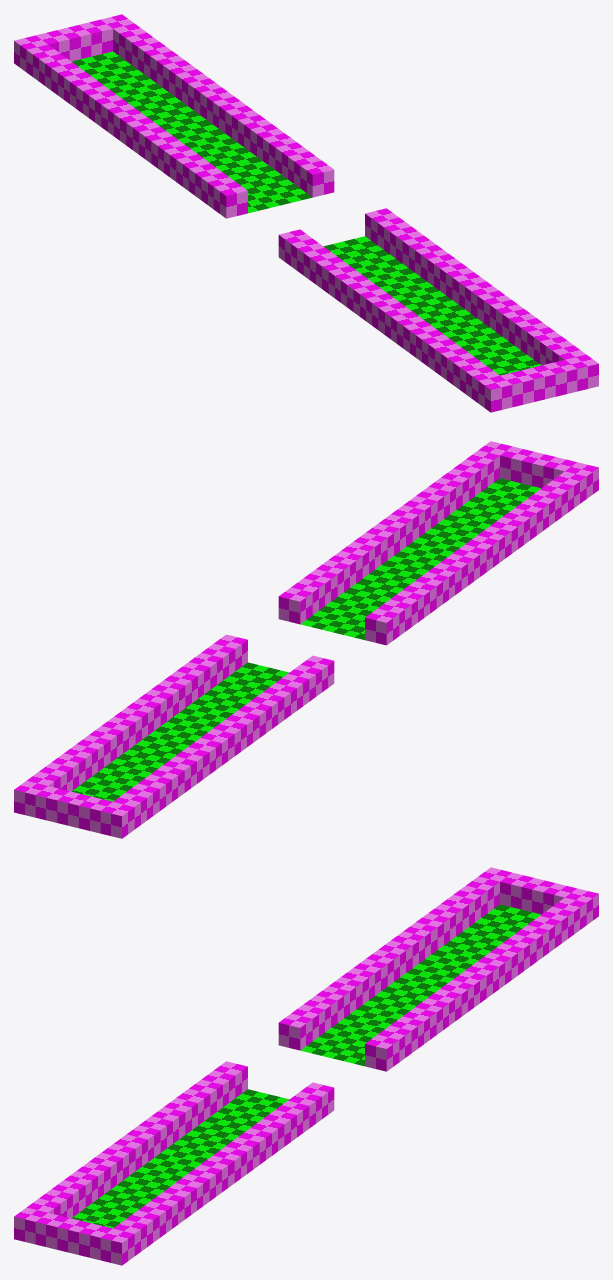
File: Level2.fbx
The picture shows the model from 3 angles, top to bottom: view 1: azimuth 30°, elevation 25°; view 2: azimuth 150°, elevation 25°; view 3: azimuth 330°, elevation 25°; orthographic projection.
Parts seen in each view (by area): view 1: Plane.001, Plane, Cube.058, Cube.070, Cube.001, Cube.004, Cube.072, Cube.071, Cube.002, Cube.006, Cube.003, Cube.026 (+60 smaller); view 2: Plane, Plane.001, Cube.048, Cube.020, Cube.029, Cube.071, Cube.003, Cube.073, Cube.004, Cube.019, Cube.072, Cube.051 (+60 smaller); view 3: Plane.001, Plane, Cube.058, Cube.070, Cube.006, Cube.002, Cube.072, Cube.073, Cube.001, Cube.004, Cube.003, Cube.026 (+60 smaller).
Part boxes in pixels (x1=…): Plane.001: x1=71, y1=51, x2=312, y2=213; Plane: x1=324, y1=236, x2=541, y2=375; Cube.058: x1=300, y1=160, x2=334, y2=197; Cube.070: x1=213, y1=181, x2=247, y2=218; Cube.001: x1=478, y1=375, x2=512, y2=412; Cube.004: x1=543, y1=360, x2=577, y2=396; Cube.072: x1=57, y1=25, x2=91, y2=61; Cube.071: x1=79, y1=19, x2=112, y2=56; Cube.002: x1=500, y1=370, x2=533, y2=407; Cube.006: x1=565, y1=354, x2=598, y2=391; Cube.003: x1=522, y1=365, x2=555, y2=401; Cube.026: x1=390, y1=226, x2=423, y2=263; Plane: x1=300, y1=478, x2=540, y2=639; Plane.001: x1=72, y1=662, x2=289, y2=801; Cube.048: x1=278, y1=587, x2=312, y2=624; Cube.020: x1=100, y1=802, x2=134, y2=838; Cube.029: x1=365, y1=608, x2=399, y2=645; Cube.071: x1=35, y1=786, x2=69, y2=822; Cube.003: x1=521, y1=451, x2=554, y2=488; Cube.073: x1=79, y1=796, x2=112, y2=833; Cube.004: x1=500, y1=446, x2=533, y2=483; Cube.019: x1=14, y1=780, x2=47, y2=817; Cube.072: x1=57, y1=791, x2=90, y2=828; Cube.051: x1=225, y1=710, x2=259, y2=746; Plane.001: x1=300, y1=904, x2=541, y2=1066; Plane: x1=71, y1=1089, x2=288, y2=1228; Cube.058: x1=365, y1=1034, x2=399, y2=1071; Cube.070: x1=278, y1=1013, x2=312, y2=1050; Cube.006: x1=100, y1=1228, x2=134, y2=1265; Cube.002: x1=35, y1=1213, x2=69, y2=1249; Cube.072: x1=521, y1=878, x2=555, y2=914; Cube.073: x1=500, y1=872, x2=533, y2=909; Cube.001: x1=14, y1=1207, x2=47, y2=1244; Cube.004: x1=79, y1=1223, x2=112, y2=1260; Cube.003: x1=57, y1=1218, x2=90, y2=1254; Cube.026: x1=275, y1=1100, x2=309, y2=1137.
Bounding box in the file's own units: 1000 × 203 × 7637.
